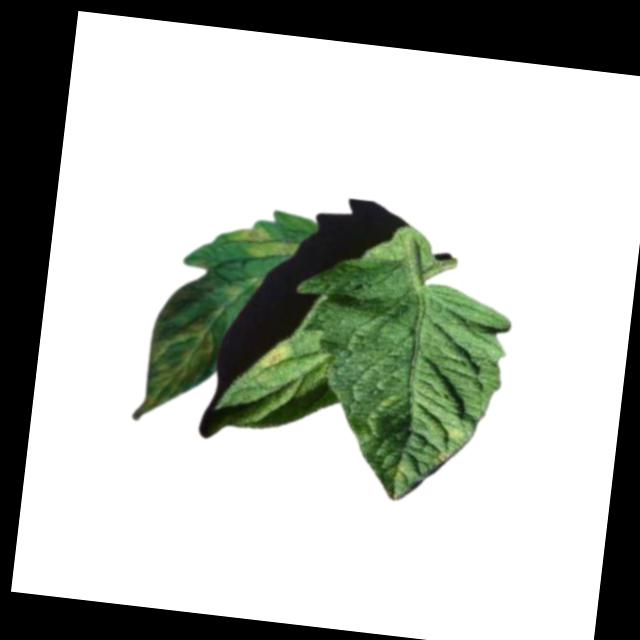Leaf_Mold: (130, 313, 218, 431), (223, 221, 303, 262), (431, 416, 469, 470), (255, 339, 299, 377)
